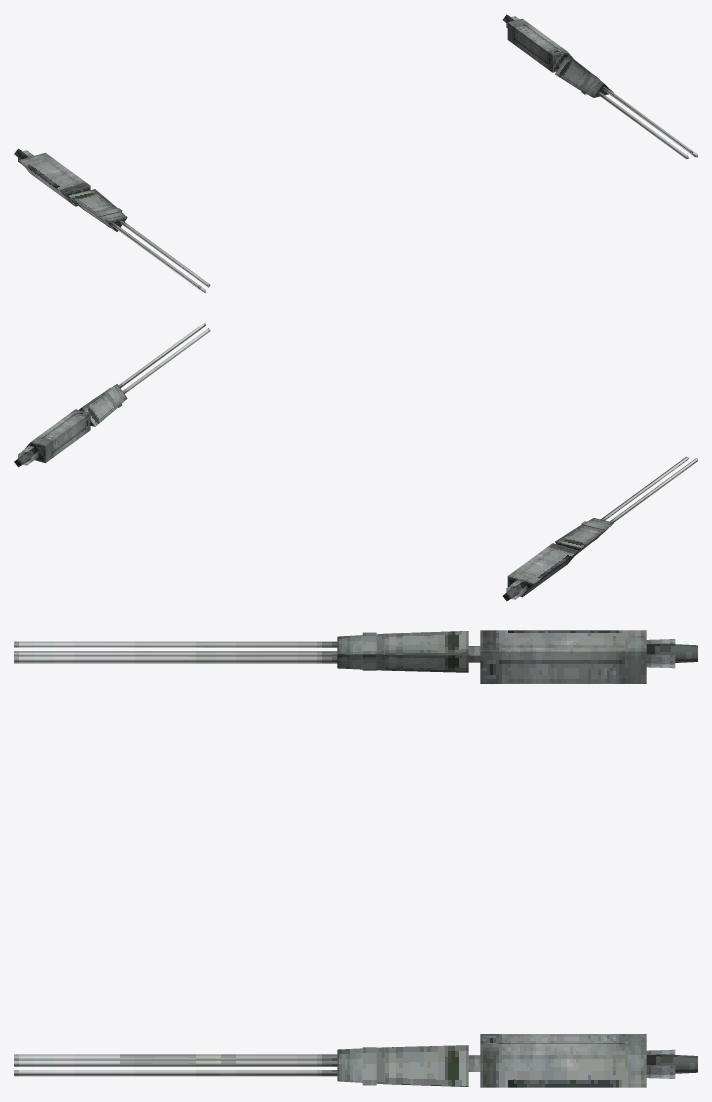
Rendered from xwing_weapon1_neg_s04_l2.fbx.
3 views of the same model, one above another, from view 1: azimuth 30°, elevation 25°; view 2: azimuth 150°, elevation 25°; view 3: azimuth 270°, elevation 25° (orthographic). The views are drawn at different scales.
Parts seen in each view (by area): view 1: mesh_node; view 2: mesh_node; view 3: mesh_node.
Boxes of the visible parts, <box> form: mesh_node: <box>14,14,697,293</box>; mesh_node: <box>14,322,697,601</box>; mesh_node: <box>14,630,697,1087</box>.
Size of the model in its own units: 14.48 by 0.9404 by 9.05.
1 material, 1 textured.
